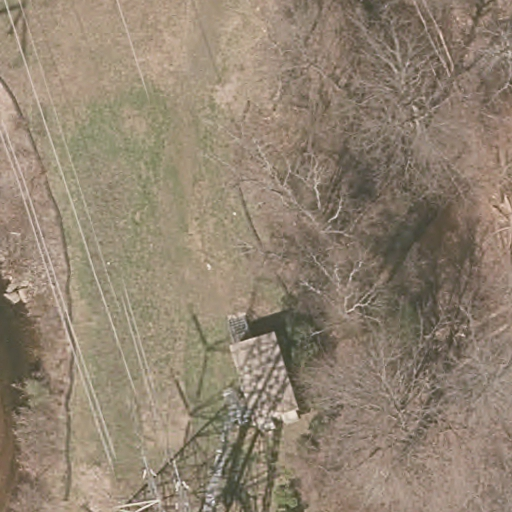TT: (124, 329, 300, 512)
